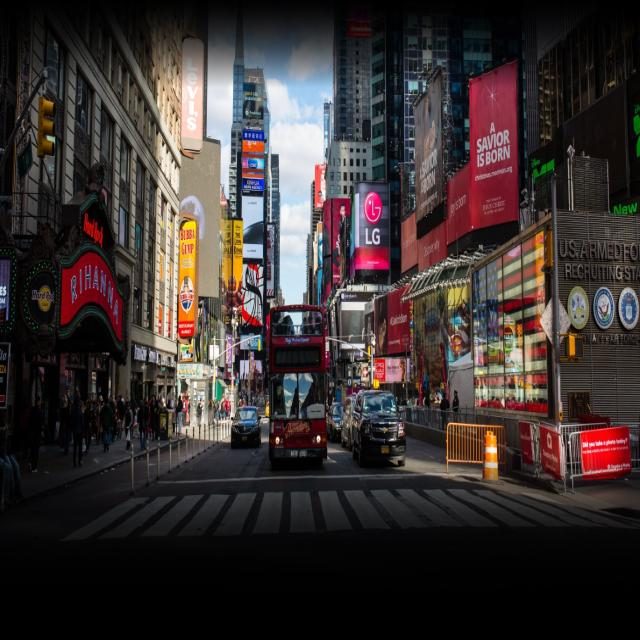body: (0, 382, 268, 440), (375, 286, 466, 368), (269, 298, 325, 420), (326, 384, 434, 428), (27, 390, 45, 475), (219, 267, 242, 326), (332, 202, 351, 271), (70, 391, 84, 469), (98, 396, 115, 453), (320, 207, 330, 286), (136, 399, 150, 451), (83, 398, 94, 456), (180, 274, 196, 312), (122, 401, 133, 451), (116, 393, 126, 441), (95, 394, 104, 446), (440, 392, 450, 432), (424, 389, 433, 430), (108, 394, 115, 444), (150, 394, 157, 442), (176, 394, 184, 434), (165, 398, 173, 432), (181, 395, 188, 427), (452, 389, 459, 413), (199, 398, 204, 427), (242, 398, 248, 416), (238, 398, 244, 408), (156, 394, 161, 404)
